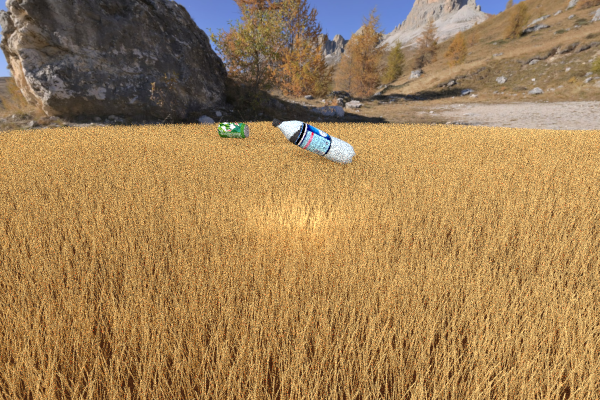bottle: (271, 118, 355, 164)
can: (217, 122, 249, 138), (206, 119, 233, 135)
